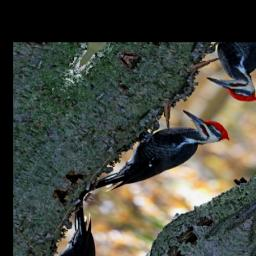Woodpecker: (83, 89, 237, 235)
